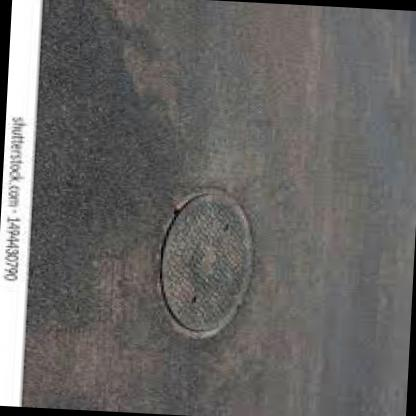manholes: (127, 174, 296, 367)
